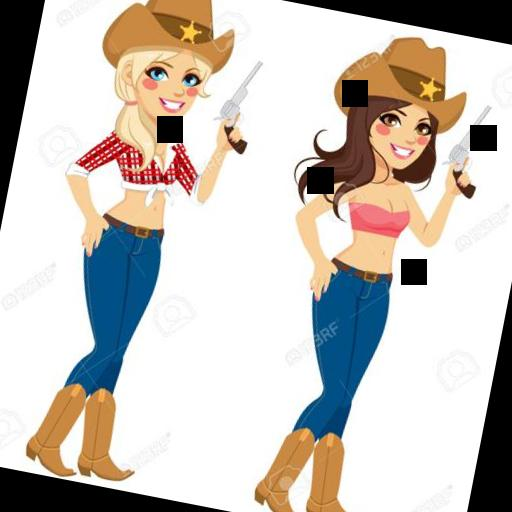Handgun: (208, 53, 264, 155), (436, 97, 492, 199)
